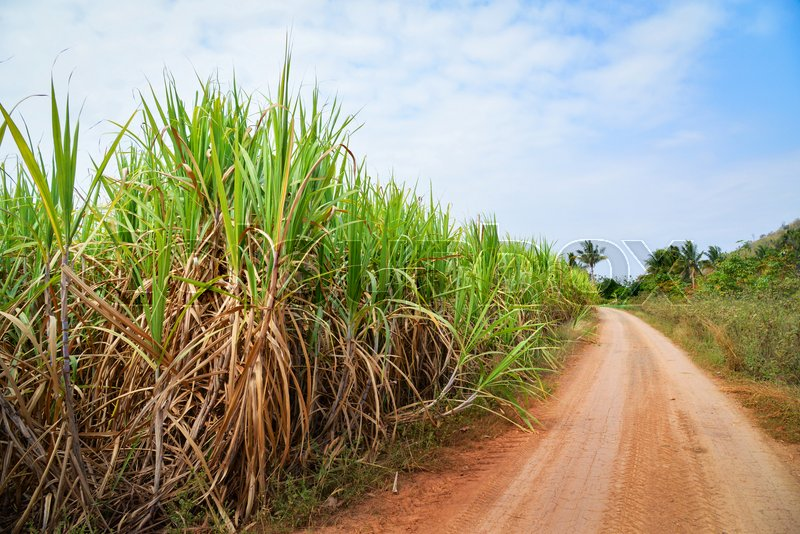sugarcane: (4, 36, 389, 532), (340, 187, 585, 468)
